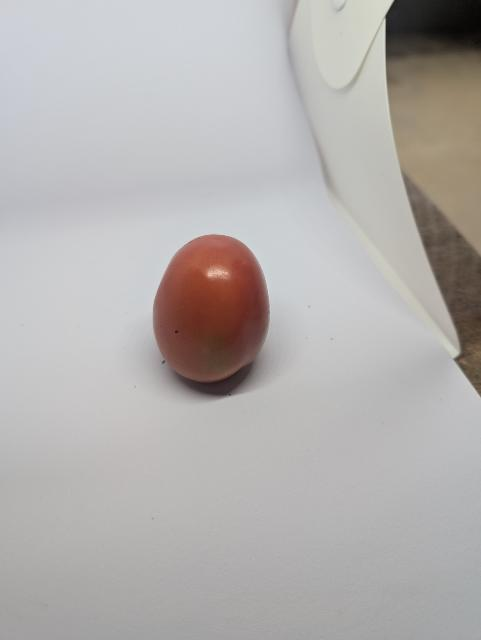red: (144, 228, 281, 393)
